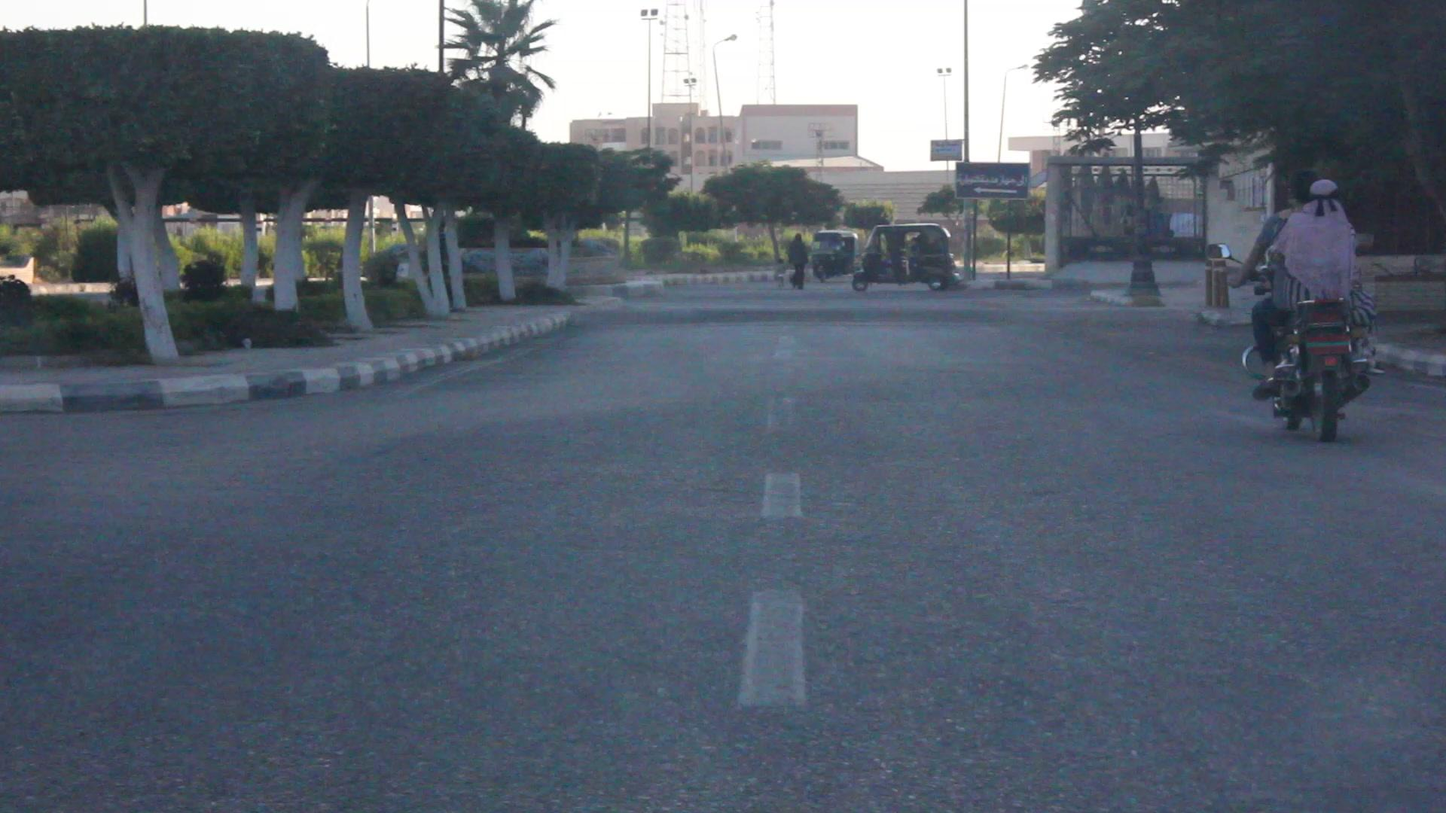Bump: (580, 301, 1130, 324)
